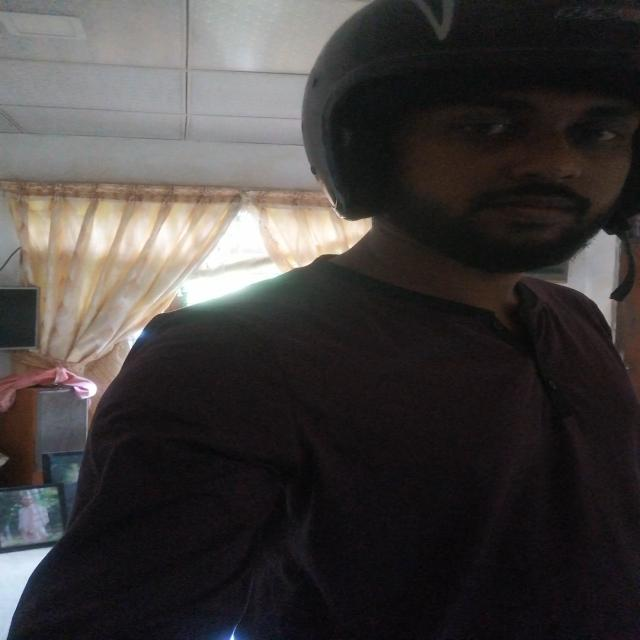Helmet_Wearer: (318, 0, 640, 246)
Person: (66, 0, 640, 640)
